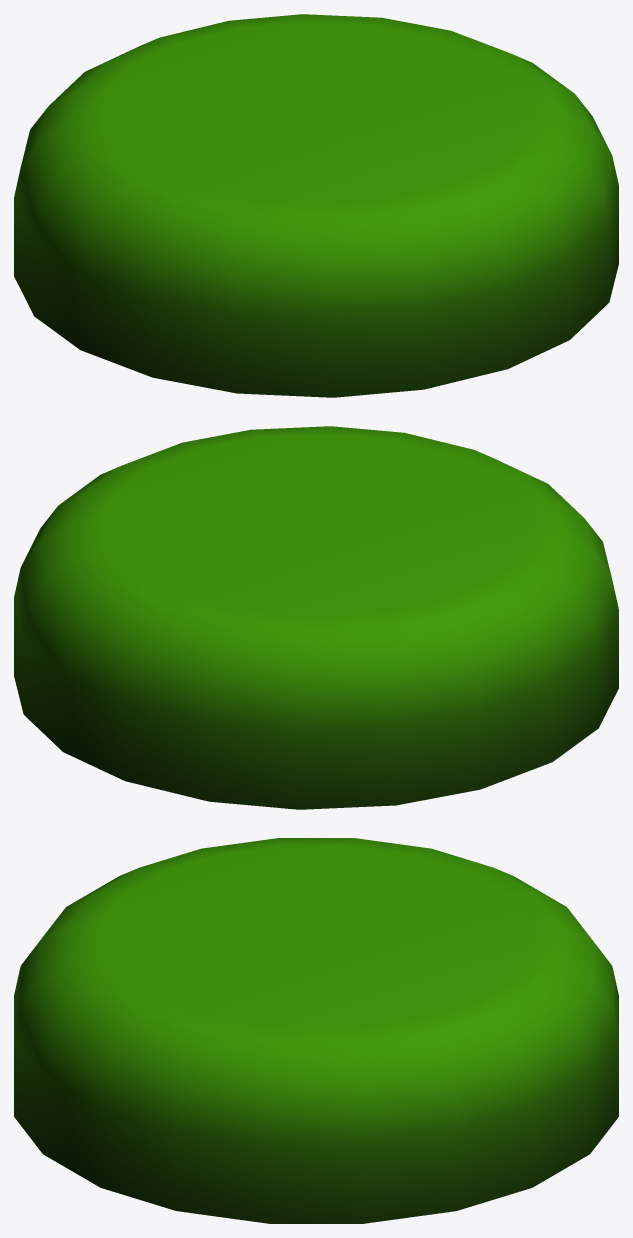
Rendered from bottone_v04.fbx.
3 renders of one model, top to bottom at view 1: azimuth 30°, elevation 25°; view 2: azimuth 150°, elevation 25°; view 3: azimuth 270°, elevation 25°, orthographic.
Parts seen in each view (by area): view 1: bottone_v04; view 2: bottone_v04; view 3: bottone_v04.
Part boxes in pixels (bbox=[...]): bottone_v04: bbox=[14, 14, 618, 397]; bottone_v04: bbox=[14, 426, 618, 809]; bottone_v04: bbox=[14, 838, 618, 1223].
Size of the model in its own units: 2.53 by 0.7323 by 2.53.
